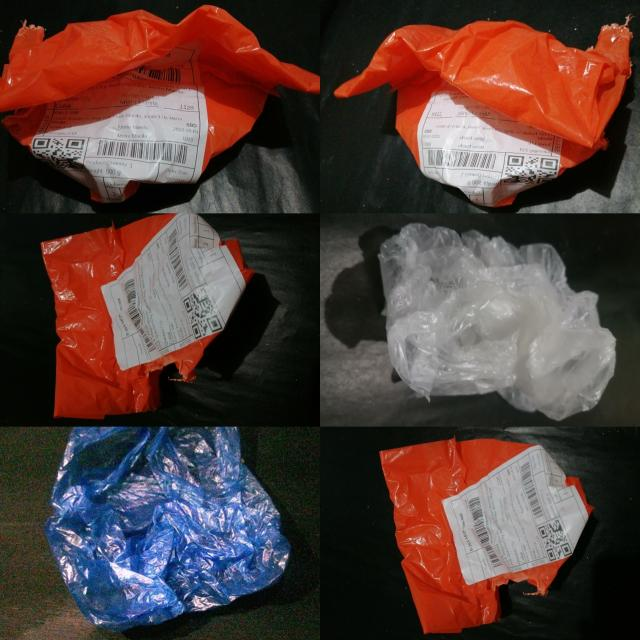Single-layer Plastic: (0, 5, 319, 202), (335, 21, 632, 206), (46, 428, 290, 631), (379, 224, 615, 419), (41, 214, 254, 418), (380, 439, 592, 632)
